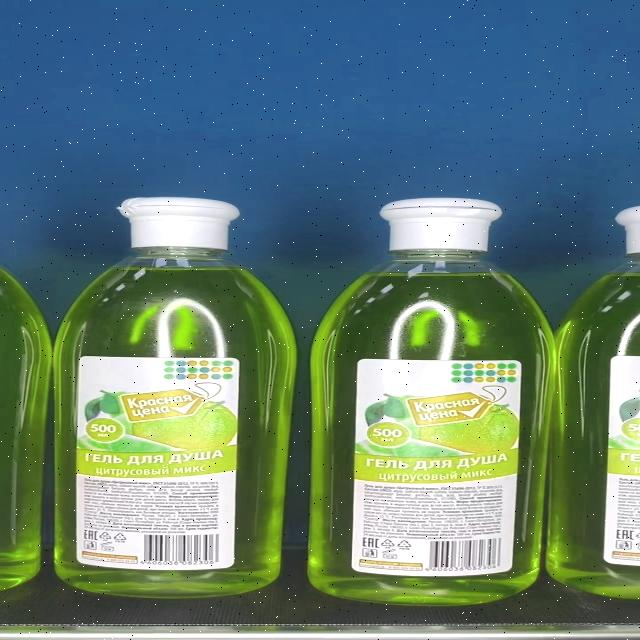Bottle: (310, 198, 557, 606), (54, 197, 296, 600)
Cap: (378, 198, 502, 250), (119, 196, 239, 248)
